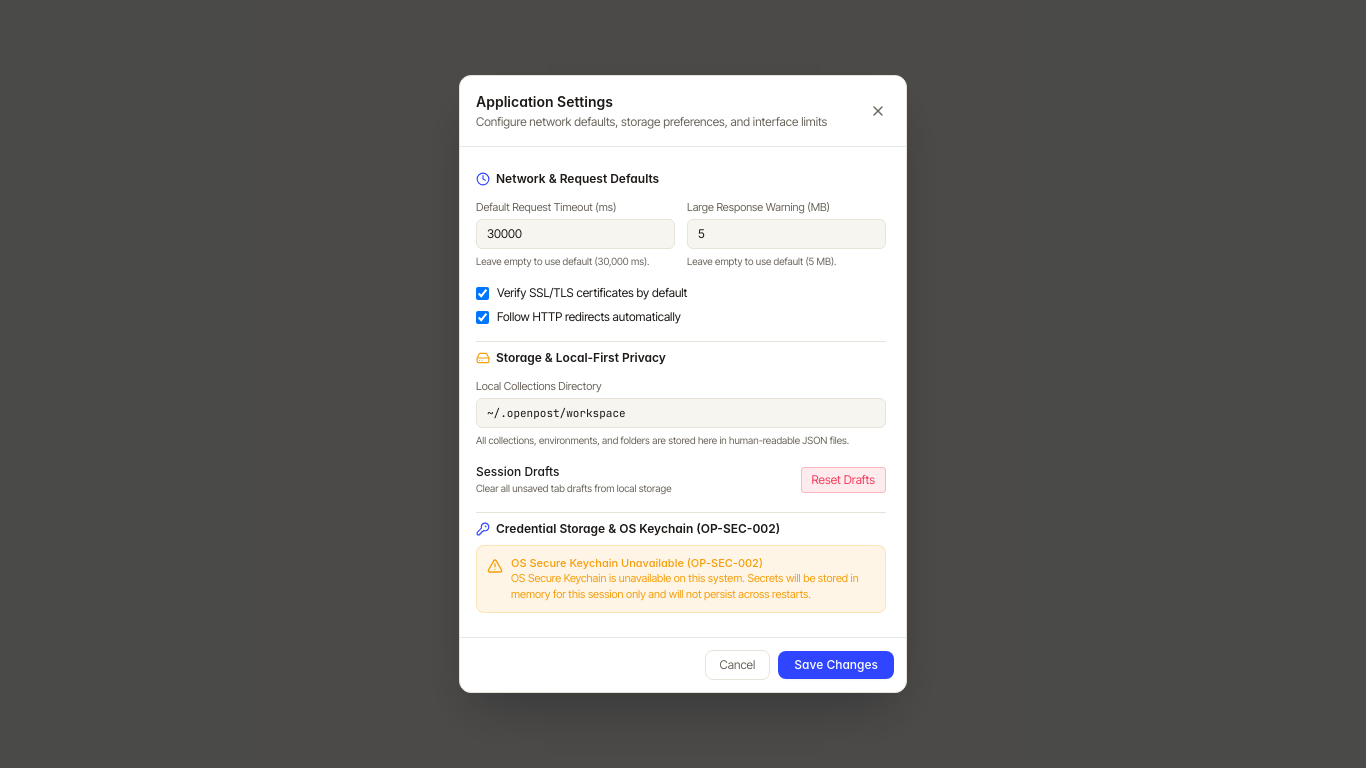
Test: Sidebar and Settings Enhancements (Step 1 Items 1, 3, 4) › Settings Dialog Numeric Inputs and Inline Validation › validates timeout limits (100 to 600,000 ms) and shows inline message
The width and height of the screenshot is (1366, 768).
Step 1. Type "50" into the field labelled "Default Request Timeout (ms)" → (576, 234), box [476, 219, 675, 249]
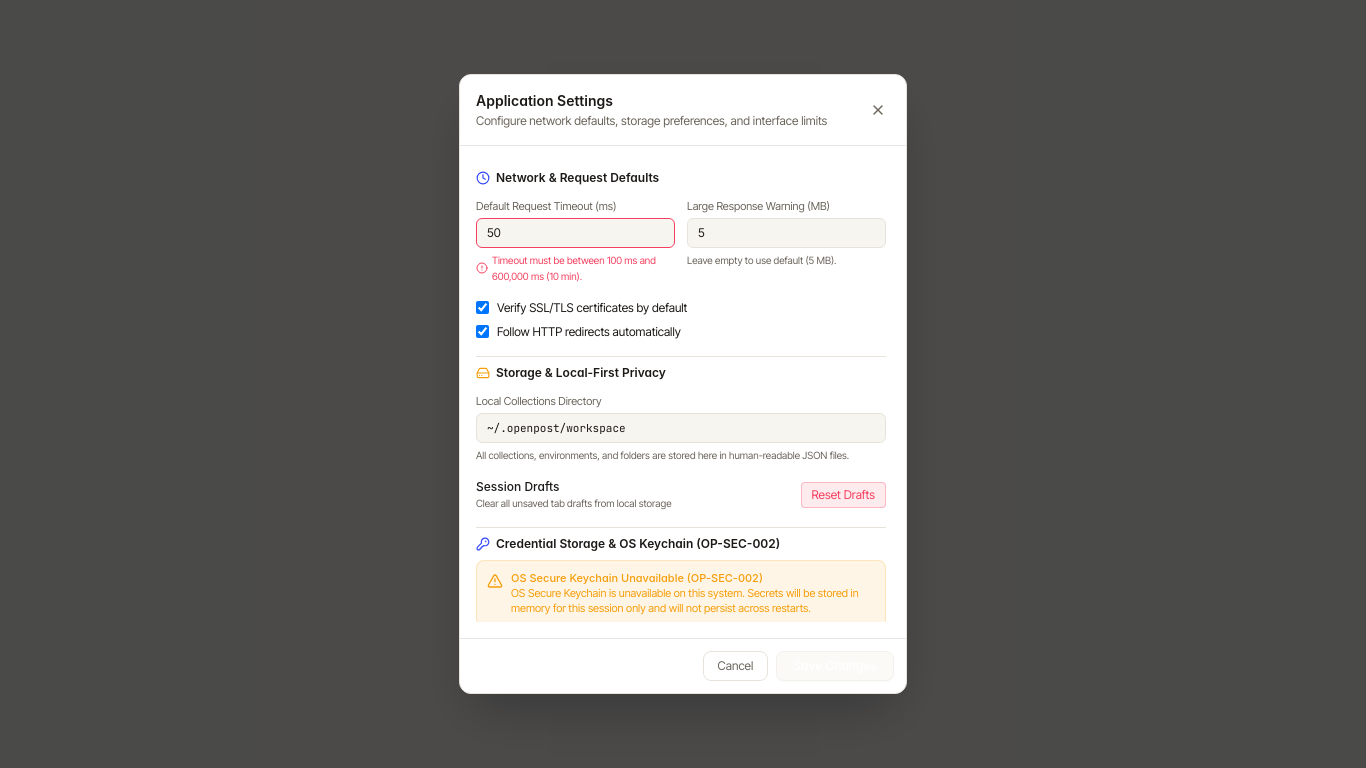
Expected: the text "Timeout must be between 100 ms and 600,000 ms (10 min)." is shown, [492, 252, 675, 284]
Step 2. Replace the text in the field labelled "Default Request Timeout (ms)" with "5000" → (576, 233), box [476, 218, 675, 248]
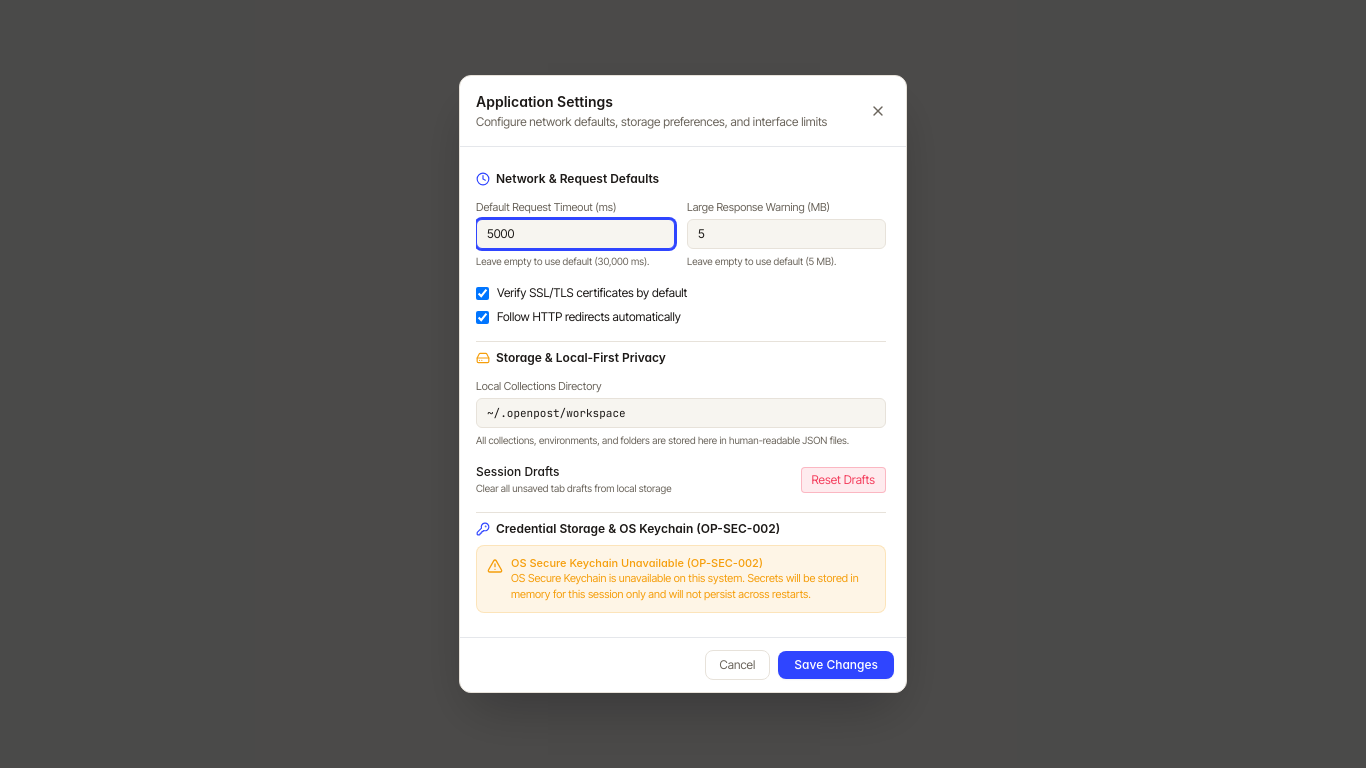
Expected: the text "Timeout must be between 100 ms and 600,000 ms" is gone
Expected: the button "Save Changes" is enabled, [778, 651, 894, 679]
